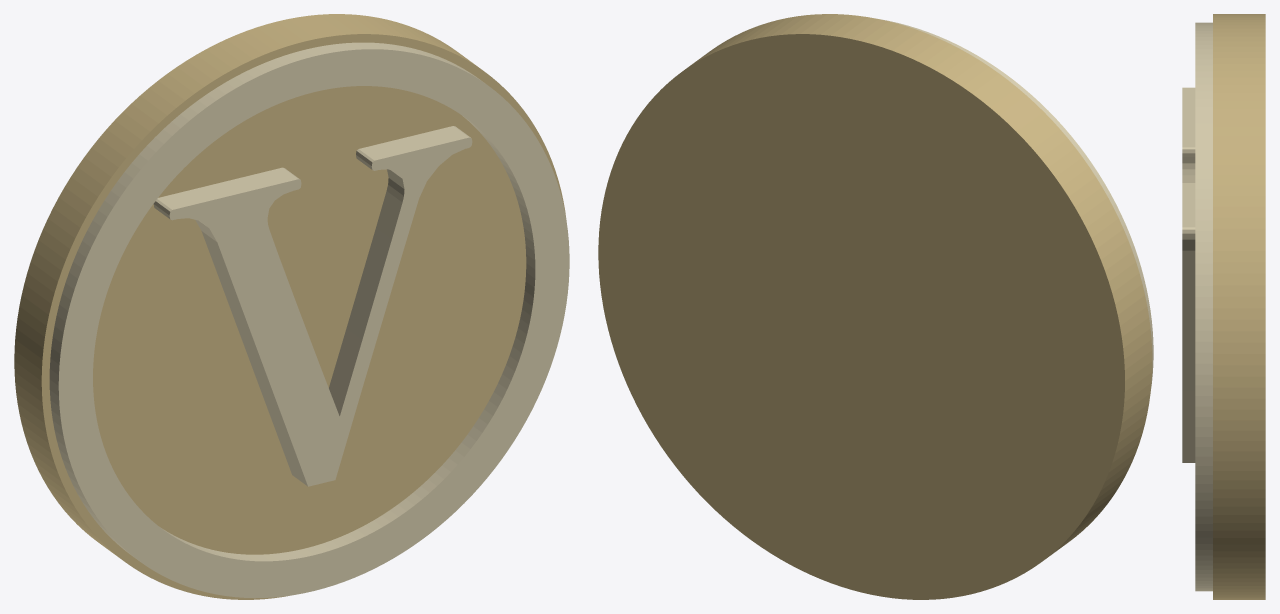
The model's file is medal-visionium.glb.
3 renders of one model, left to right at view 1: azimuth 30°, elevation 25°; view 2: azimuth 150°, elevation 25°; view 3: azimuth 270°, elevation 25°, orthographic. The views are drawn at different scales.
Visible parts, largest first — view 1: world; view 2: world; view 3: world.
Part boxes in pixels (<box>): world: <box>14,14,569,599</box>; world: <box>598,14,1153,599</box>; world: <box>1182,14,1265,599</box>.
Size of the model in its own units: 2 by 2 by 0.285.
